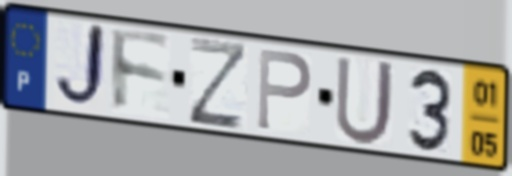3: (405, 66, 454, 155)
F: (108, 25, 174, 116)
J: (51, 20, 109, 114)
P: (254, 45, 315, 134)
U: (333, 53, 398, 148)
Z: (186, 34, 250, 133)
